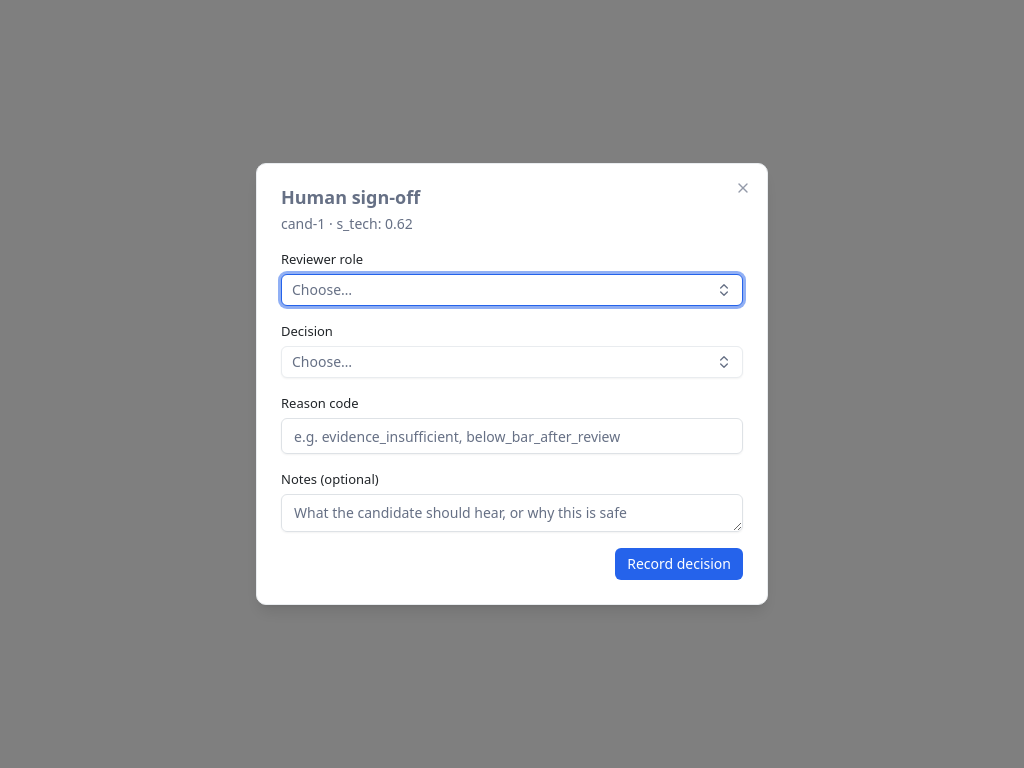
it: OverrideDialog › maps a 403 to the forbidden message
Step 1. Click the button named "Reviewer role" → (322, 290), box x1=281 y1=274 x2=743 y2=306
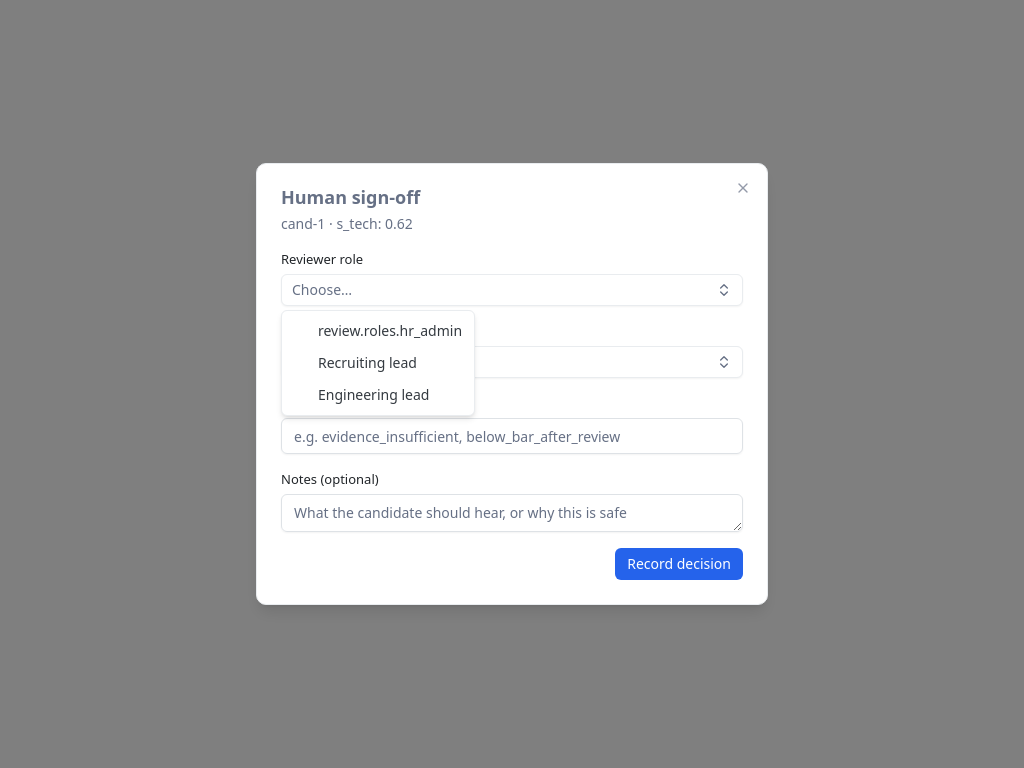
Step 2. Click the menu item "Engineering lead" → (374, 394), box x1=318 y1=385 x2=429 y2=404
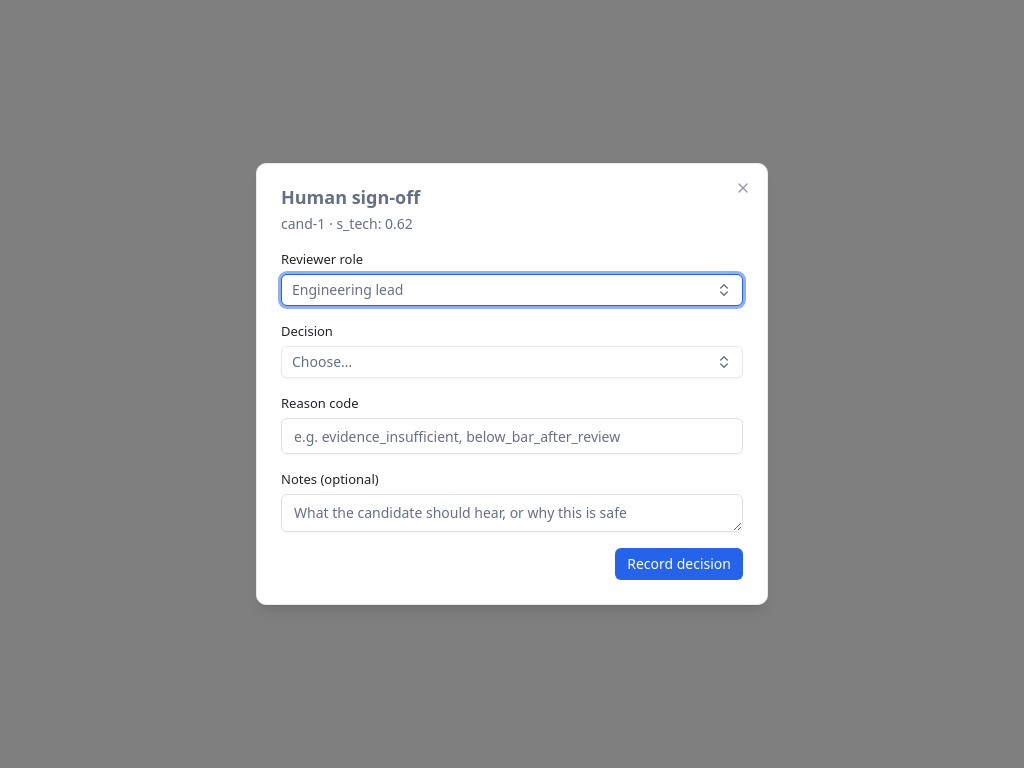
Step 3. Click the button named "Decision" → (322, 362), box x1=281 y1=346 x2=743 y2=378
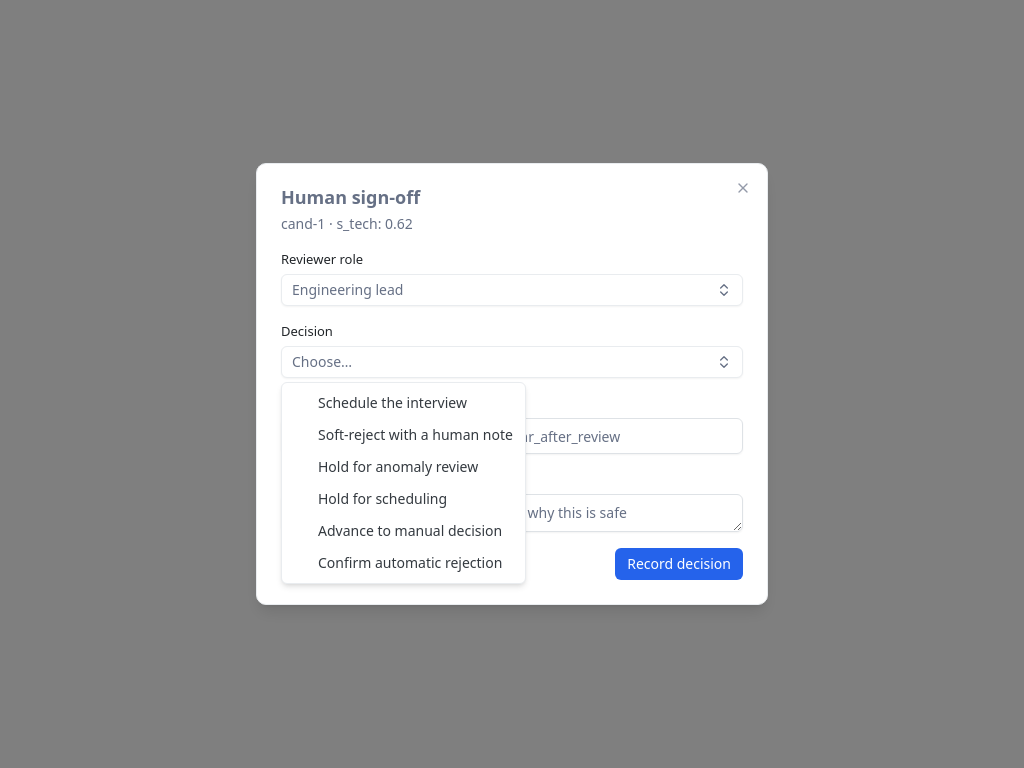
Step 4. Click the menu item "Schedule the interview" → (392, 402), box x1=318 y1=393 x2=467 y2=412
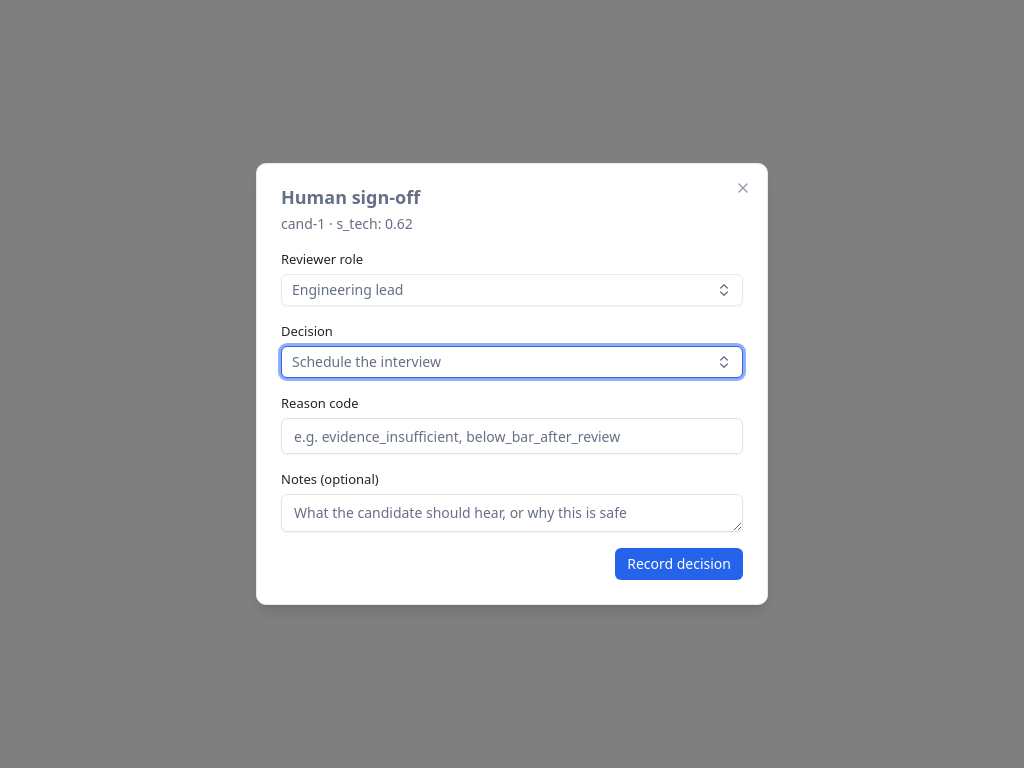
Step 5. Type "reconsider" into the field labelled "Reason code" → (512, 436), box x1=281 y1=418 x2=743 y2=454
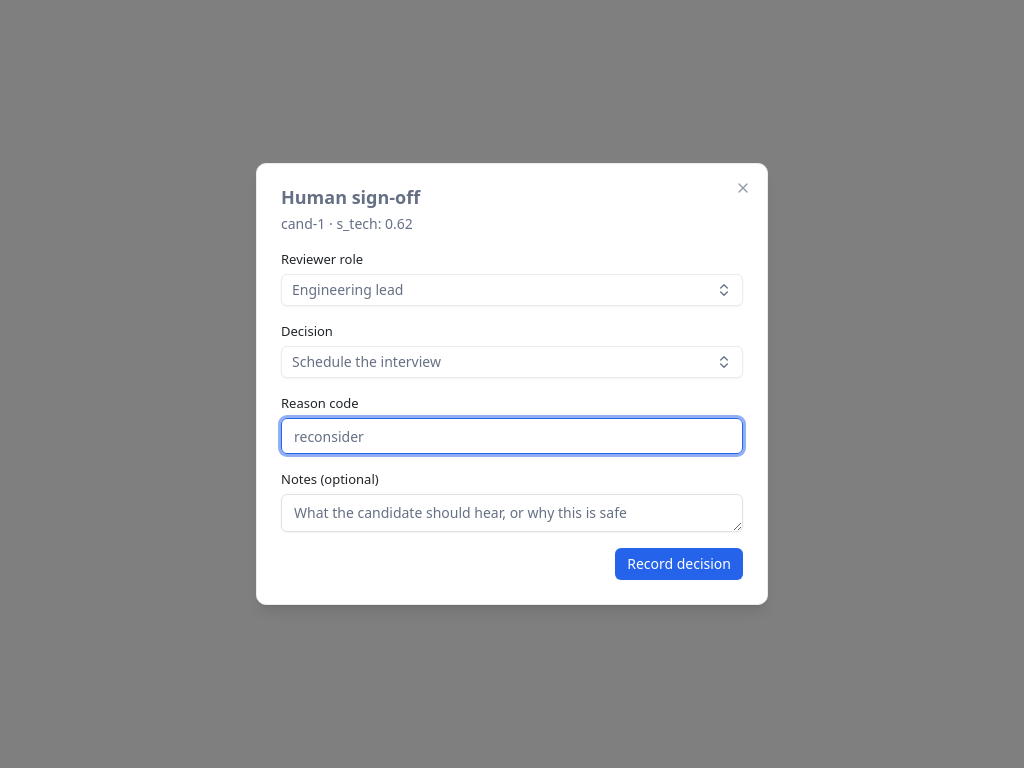
Step 6. Click the button "Record decision" → (679, 564), box x1=615 y1=548 x2=743 y2=580
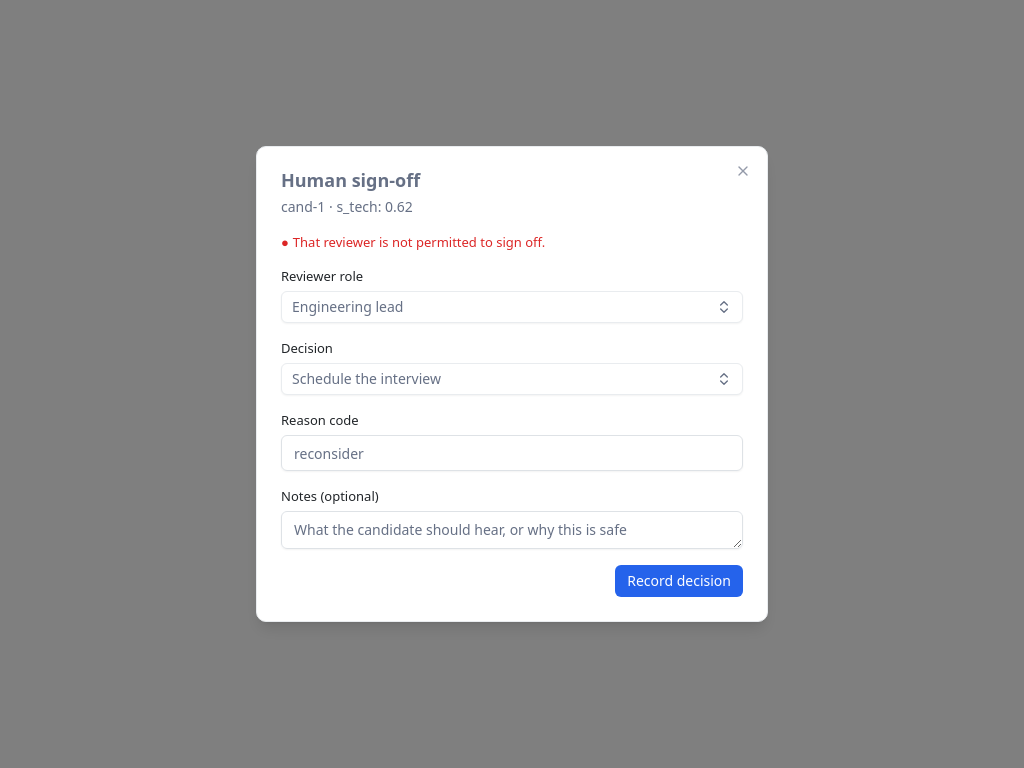
Expected: the text "That reviewer is not permitted to sign off." is shown, x1=293 y1=233 x2=545 y2=251
